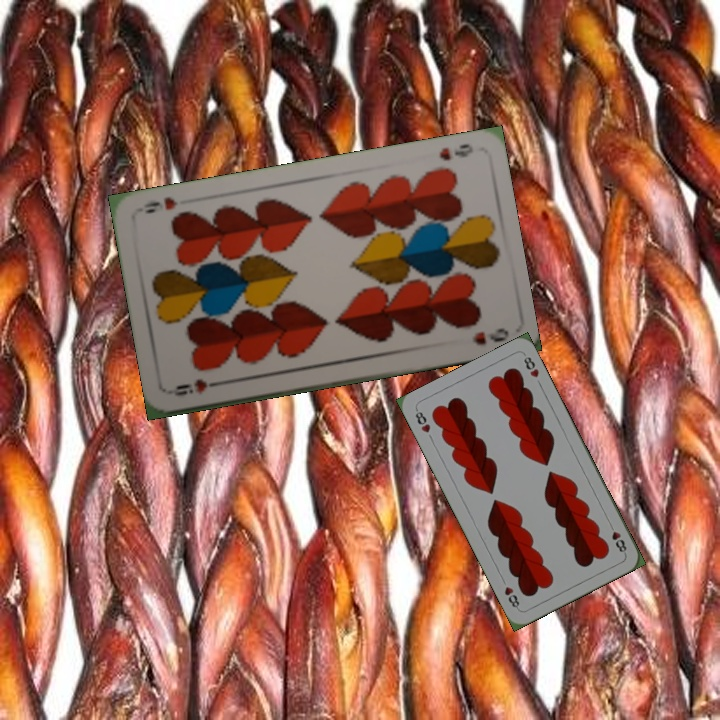H8: (604, 519, 629, 556), (411, 405, 433, 435)
H9: (168, 375, 227, 399), (435, 139, 476, 164)
